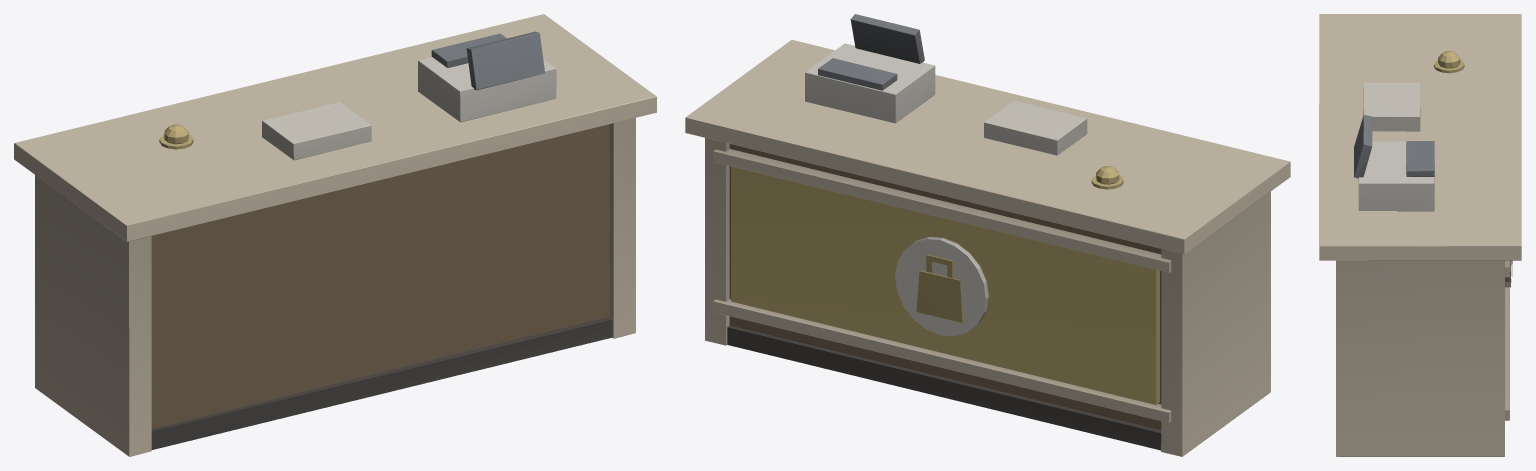
The model's file is mall_counter__f1_low.glb.
3 views of the same model, side by side, from view 1: azimuth 30°, elevation 25°; view 2: azimuth 150°, elevation 25°; view 3: azimuth 270°, elevation 25° (orthographic). The views are drawn at different scales.
Visible parts, largest first — view 1: mall.counter__f1; view 2: mall.counter__f1; view 3: mall.counter__f1.
Part boxes in pixels (x1,y1,x2,y2): mall.counter__f1: (14, 14, 656, 456); mall.counter__f1: (685, 14, 1290, 456); mall.counter__f1: (1319, 14, 1521, 456).
Bounding box in the file's own units: 2.3 × 1.28 × 0.8484.
